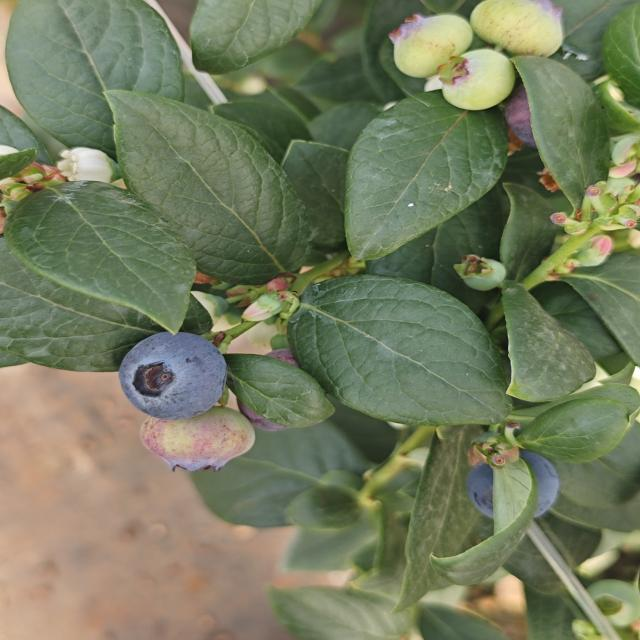ripe: (115, 326, 228, 420), (236, 345, 326, 441), (462, 448, 570, 527), (501, 76, 569, 148)
